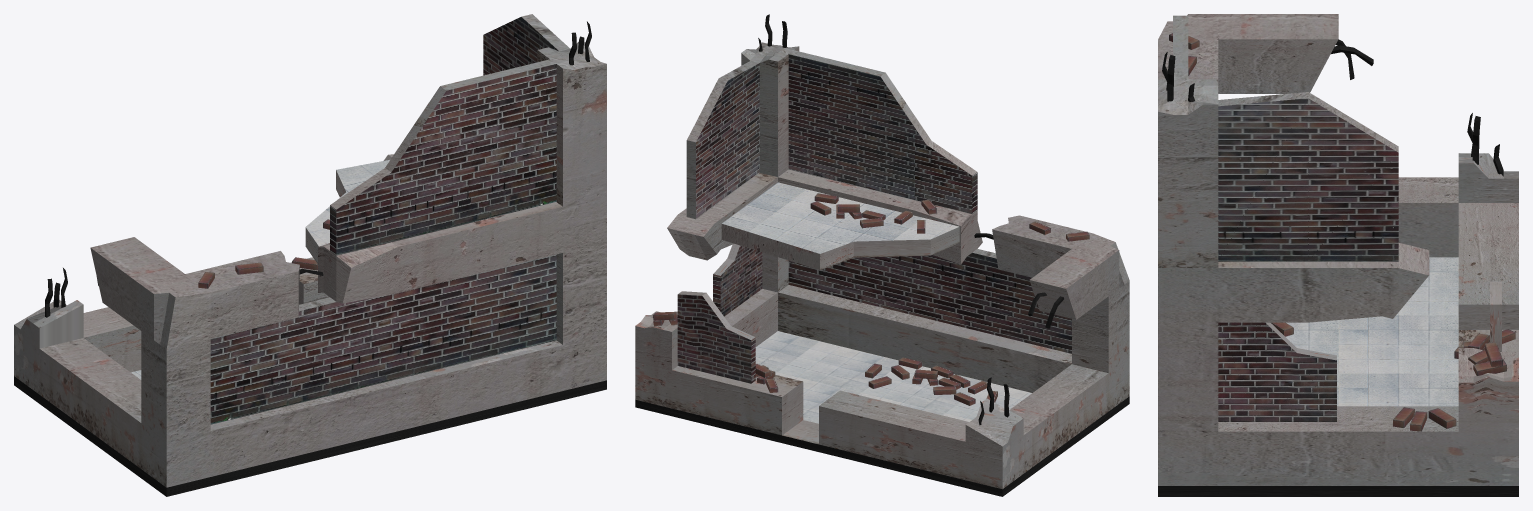
File: ruineHouse01.obj
3 renders of one model, left to right at view 1: azimuth 30°, elevation 25°; view 2: azimuth 150°, elevation 25°; view 3: azimuth 270°, elevation 25°, orthographic. The views are drawn at different scales.
Parts seen in each view (by area): view 1: Ruin_Cube, FloorTile_Cube.030; view 2: Ruin_Cube, FloorTile_Cube.030, WallPart01_Cube.018, WallPart02_Cube.023; view 3: Ruin_Cube, WallPart02_Cube.023, WallPart01_Cube.018.
Boxes of the visible parts, x1,y1,x2,y2 form: Ruin_Cube: [14, 14, 606, 496]; FloorTile_Cube.030: [305, 160, 389, 263]; Ruin_Cube: [635, 42, 1129, 496]; FloorTile_Cube.030: [721, 182, 959, 269]; WallPart01_Cube.018: [677, 291, 755, 383]; WallPart02_Cube.023: [713, 244, 762, 316]; Ruin_Cube: [1158, 14, 1518, 496]; WallPart02_Cube.023: [1218, 322, 1336, 421]; WallPart01_Cube.018: [1490, 281, 1501, 351].
Size of the model in its own units: 10 by 7.97 by 6.
4 materials, 4 textured.
